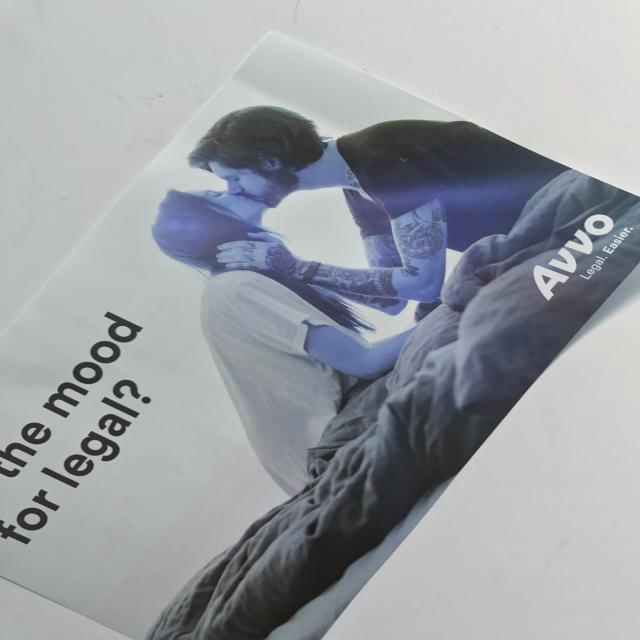paper: (3, 25, 640, 640)
